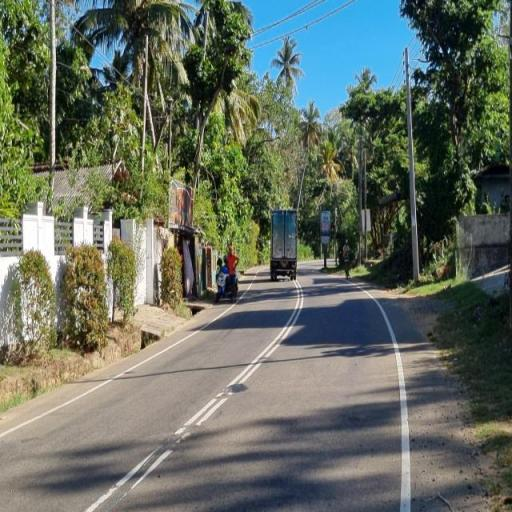double_white_line: (173, 274, 302, 438)
